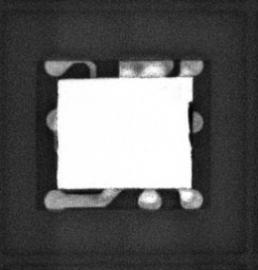DIE_BROKEN: (185, 100, 195, 147)
